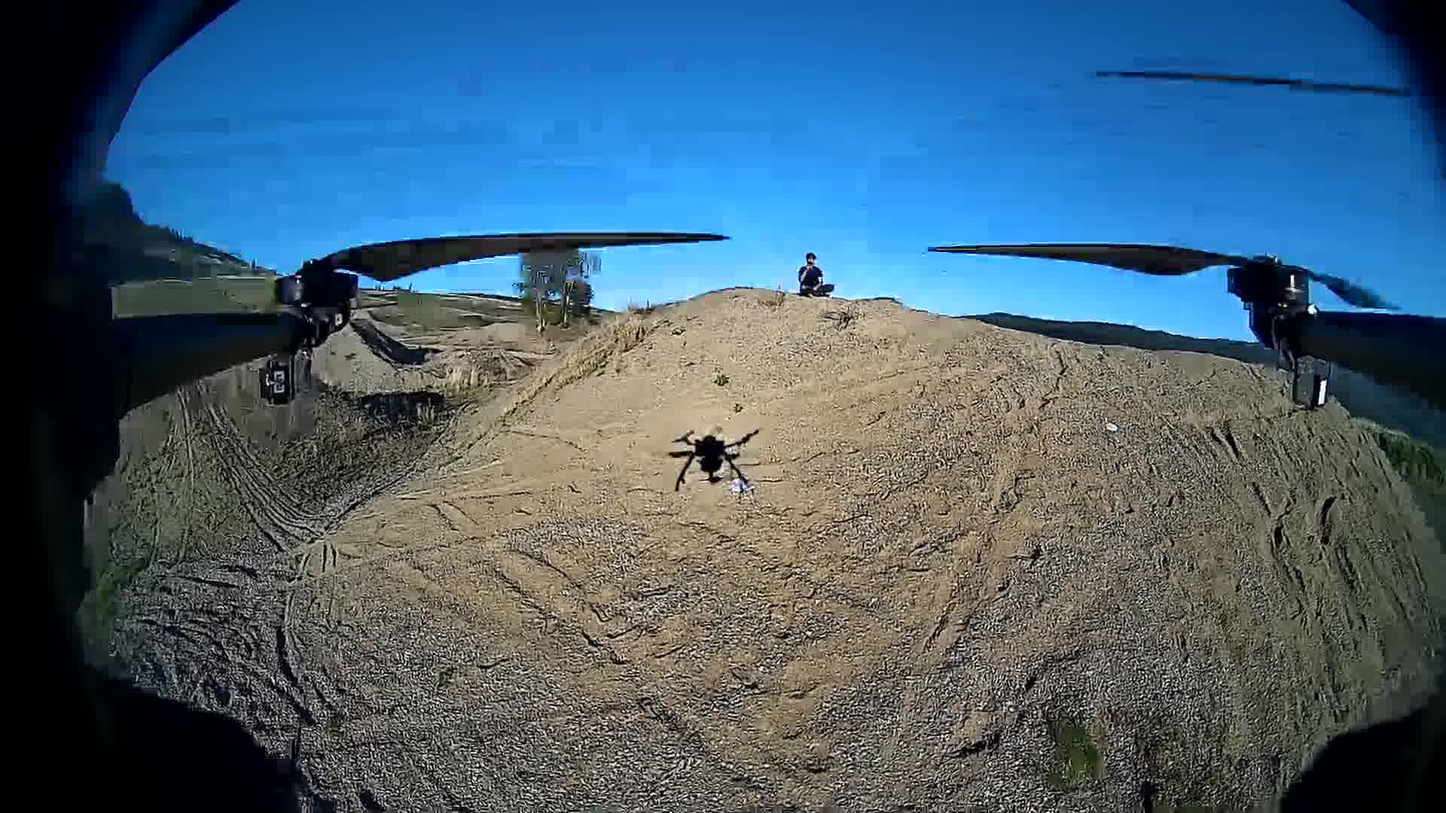Target: (729, 476, 745, 490), (1105, 421, 1117, 431)
